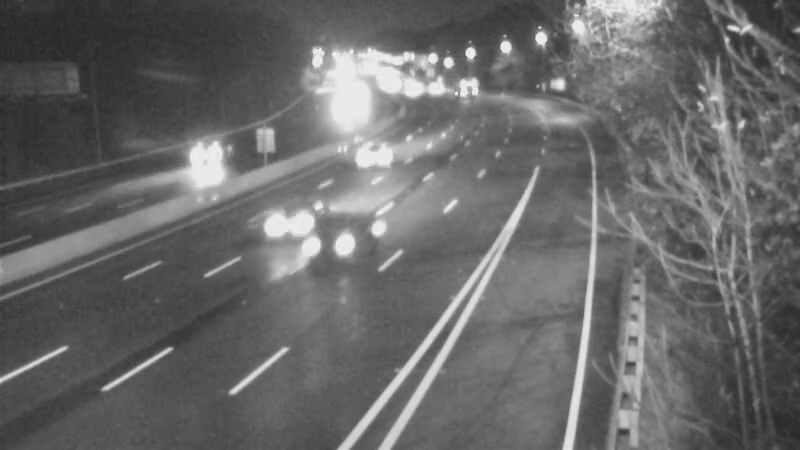vehicle: (333, 115, 413, 195), (255, 175, 335, 255), (296, 202, 376, 282), (156, 122, 236, 202)
